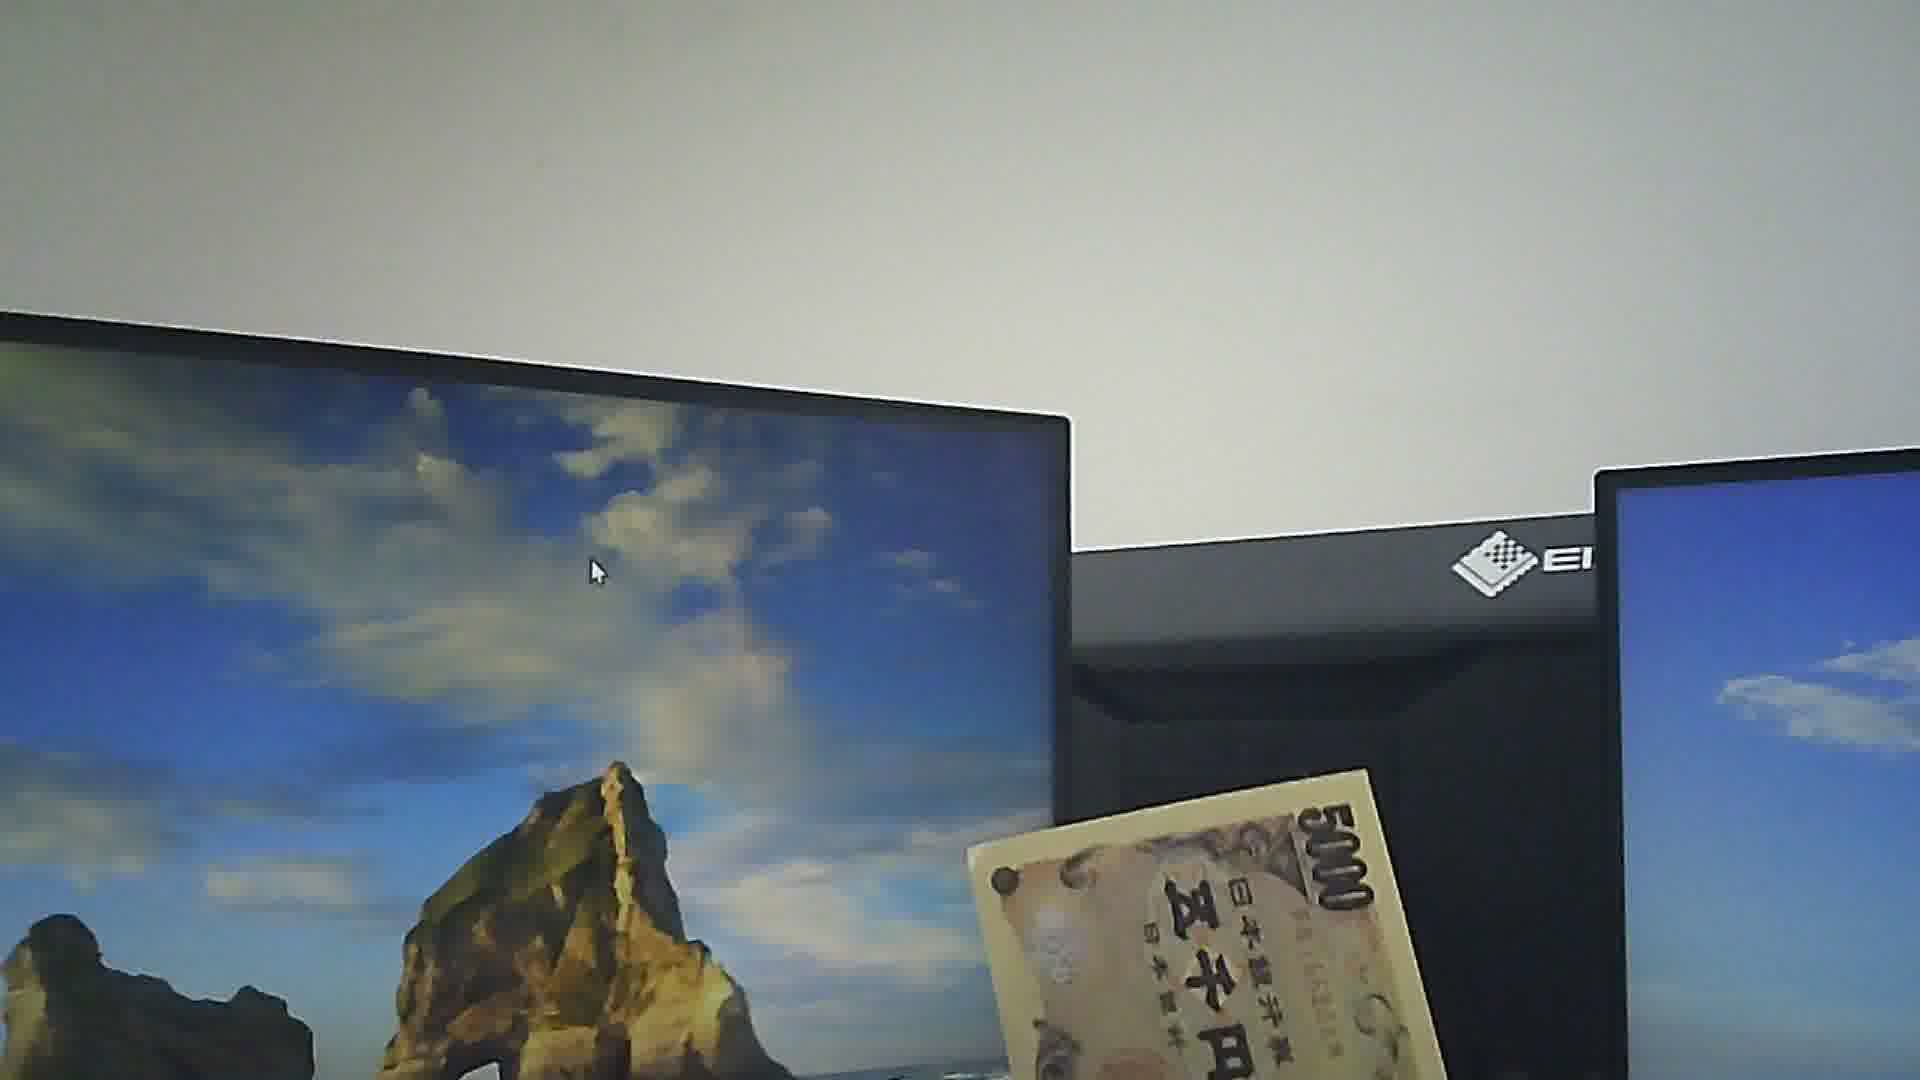5,000 Yen: (964, 767, 1472, 1079)
